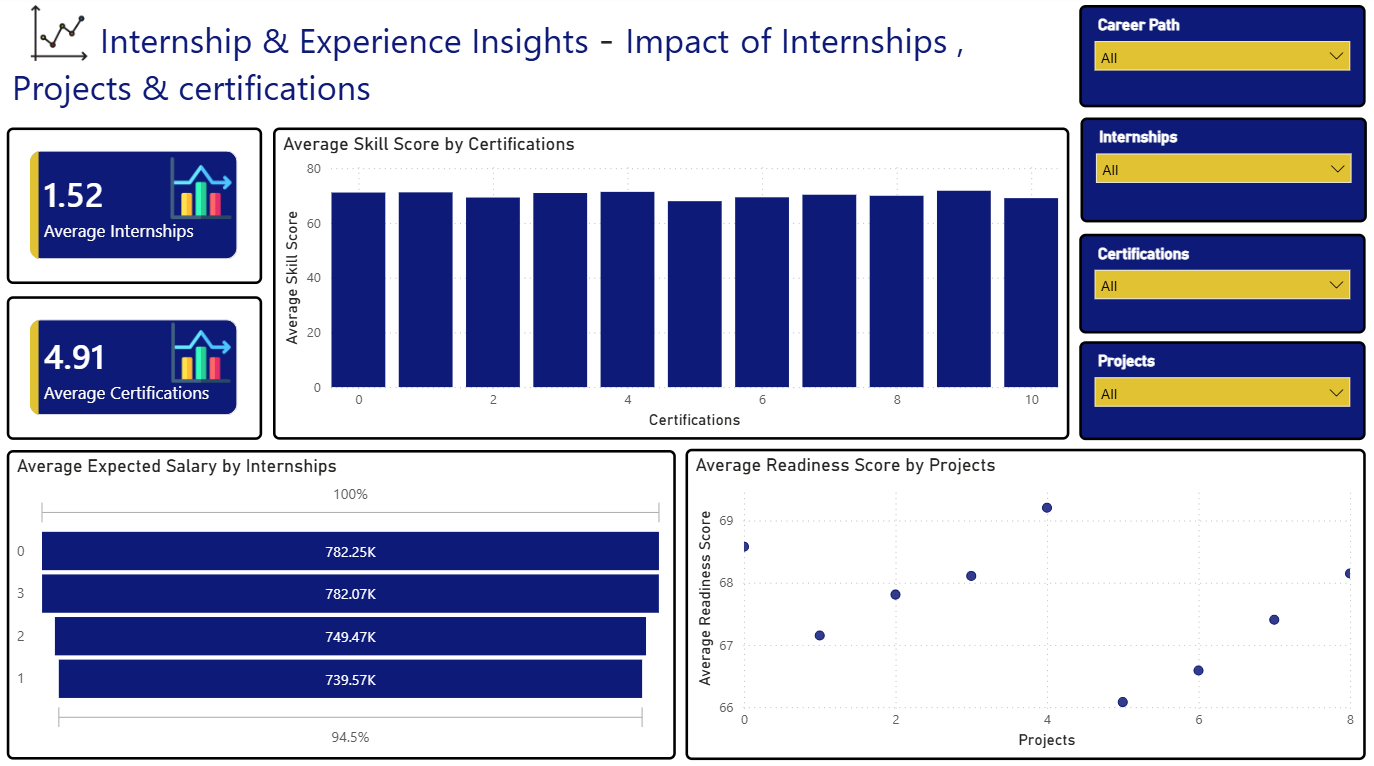

The page's visual inventory and layout, read from the dashboard file:
{"tool":"powerbi","page":{"name":"Page 5","canvas":[1280,720],"ordinal":4},"visuals":[{"type":"funnel","fields":{"Category":["student_career_analytics.Internships"],"Y":["Avg(student_career_analytics.Excpected_Salary)"]},"box":[8.1,423.3,622.1,288.4],"z":0},{"type":"lineStackedColumnComboChart","fields":{"Category":["student_career_analytics.Certifications"],"Y":["Avg(student_career_analytics.Average_Skill)"]},"box":[255.8,123.3,740.7,290.7],"z":1000},{"type":"scatterChart","fields":{"X":["student_career_analytics.Projects"],"Y":["Avg(student_career_analytics.Readiness_Score)"]},"box":[639.5,422.1,632.6,289.5],"z":2000},{"type":"cardVisual","fields":{"Data":["Avg(student_career_analytics.Internships)"]},"box":[8.1,123.3,237.2,145.3],"z":3000},{"type":"cardVisual","fields":{"Data":["Avg(student_career_analytics.Certifications)"]},"box":[8.1,280.2,237.2,133.7],"z":4000},{"type":"textbox","box":[8.1,9.3,988.4,104.7],"z":5000},{"type":"slicer","fields":{"Values":["student_career_analytics.Projects"]},"box":[1005.8,322.1,266.3,91.9],"z":6000},{"type":"slicer","fields":{"Values":["student_career_analytics.Internships"]},"box":[1007,114,266.3,97.7],"z":7000},{"type":"slicer","fields":{"Values":["student_career_analytics.Career_Path"]},"box":[1005.8,9.3,266.3,95.3],"z":8000},{"type":"slicer","fields":{"Values":["student_career_analytics.Certifications"]},"box":[1005.8,222.1,266.3,93],"z":9000},{"type":"image","box":[20.9,9.3,72.1,52.3],"z":9501},{"type":"image","box":[160.5,147.7,57,64],"z":10002},{"type":"image","box":[160.5,304.7,57,55.8],"z":10503}]}

Visuals, with their boxes in screenshot pixels (x1, y1, x2, y2), scaled from the page's 1280x720 canvas onto the 1374x766 screenshot:
funnel - student_career_analytics.Internships x Avg(student_career_analytics.Excpected_Salary): pyautogui.locateOnScreen(9, 450, 676, 757)
lineStackedColumnComboChart - student_career_analytics.Certifications x Avg(student_career_analytics.Average_Skill): pyautogui.locateOnScreen(275, 131, 1070, 440)
scatterChart - student_career_analytics.Projects x Avg(student_career_analytics.Readiness_Score): pyautogui.locateOnScreen(686, 449, 1366, 757)
cardVisual - Avg(student_career_analytics.Internships): pyautogui.locateOnScreen(9, 131, 263, 286)
cardVisual - Avg(student_career_analytics.Certifications): pyautogui.locateOnScreen(9, 298, 263, 440)
textbox: pyautogui.locateOnScreen(9, 10, 1070, 121)
slicer - student_career_analytics.Projects: pyautogui.locateOnScreen(1080, 343, 1366, 440)
slicer - student_career_analytics.Internships: pyautogui.locateOnScreen(1081, 121, 1367, 225)
slicer - student_career_analytics.Career_Path: pyautogui.locateOnScreen(1080, 10, 1366, 111)
slicer - student_career_analytics.Certifications: pyautogui.locateOnScreen(1080, 236, 1366, 335)
image: pyautogui.locateOnScreen(22, 10, 100, 66)
image: pyautogui.locateOnScreen(172, 157, 233, 225)
image: pyautogui.locateOnScreen(172, 324, 233, 384)
